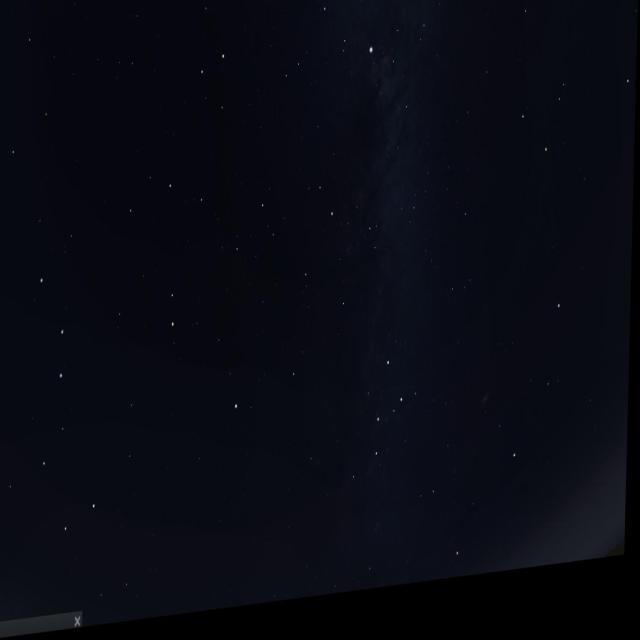cassiopeia: (349, 338, 423, 498)
cygnus: (314, 0, 431, 102)
ursa_major: (30, 259, 106, 546)
